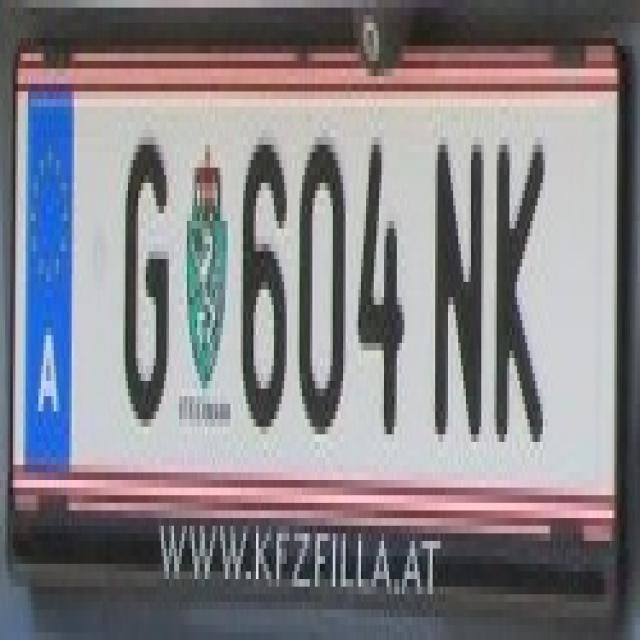0: (289, 122, 343, 419)
4: (350, 122, 404, 427)
6: (230, 114, 290, 419)
G: (115, 114, 174, 419)
K: (476, 107, 553, 442)
N: (418, 107, 492, 442)
